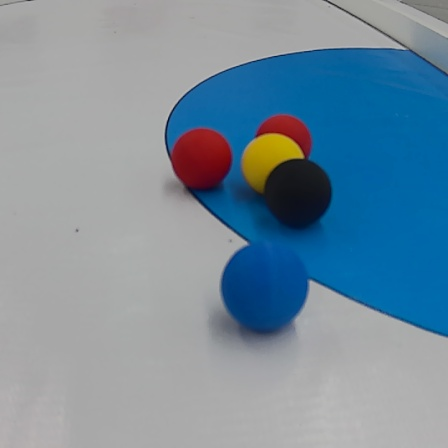black: (266, 160, 331, 225)
blue: (218, 240, 312, 337)
blue_base: (171, 38, 448, 337)
red: (169, 121, 229, 194), (260, 107, 313, 158)
yellow: (244, 133, 306, 186)
